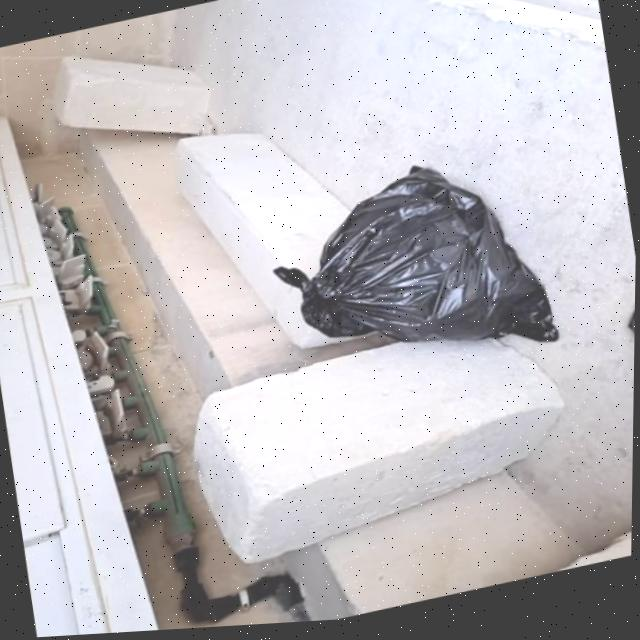Mixed Waste -Black Bag-: (263, 146, 563, 404)
